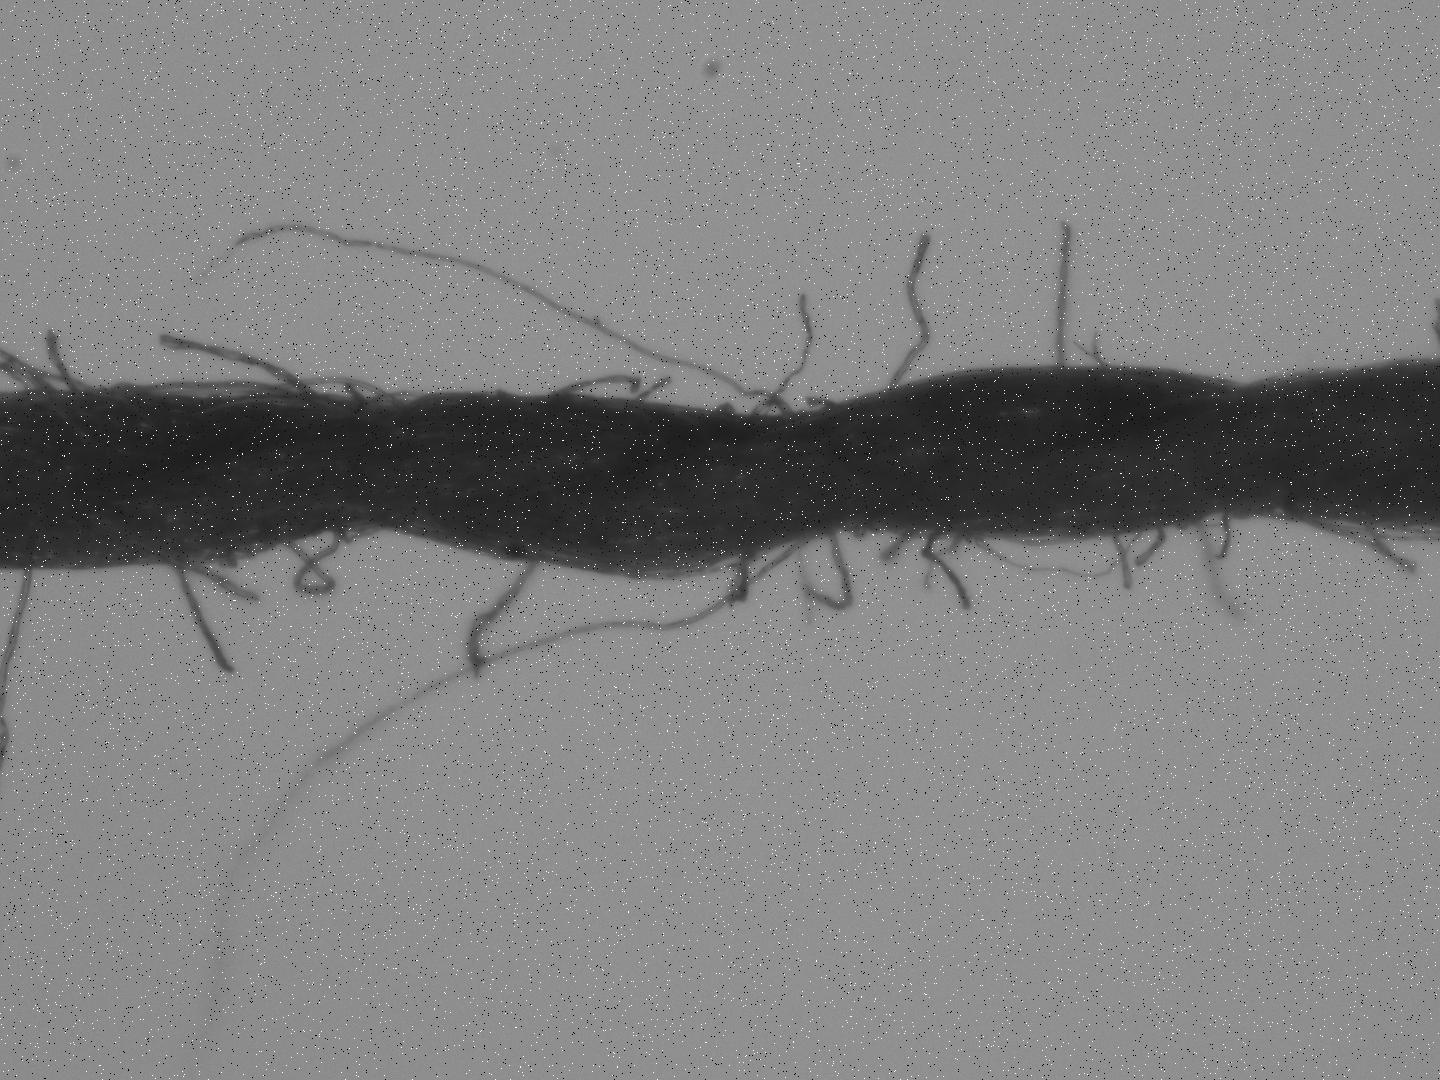loop_fiber: (983, 532, 1146, 581), (635, 545, 778, 580), (280, 528, 345, 597), (283, 379, 404, 412), (108, 379, 273, 403), (751, 399, 798, 420)
protruding_fiber: (882, 238, 932, 395), (471, 563, 539, 673), (1057, 217, 1074, 369)
